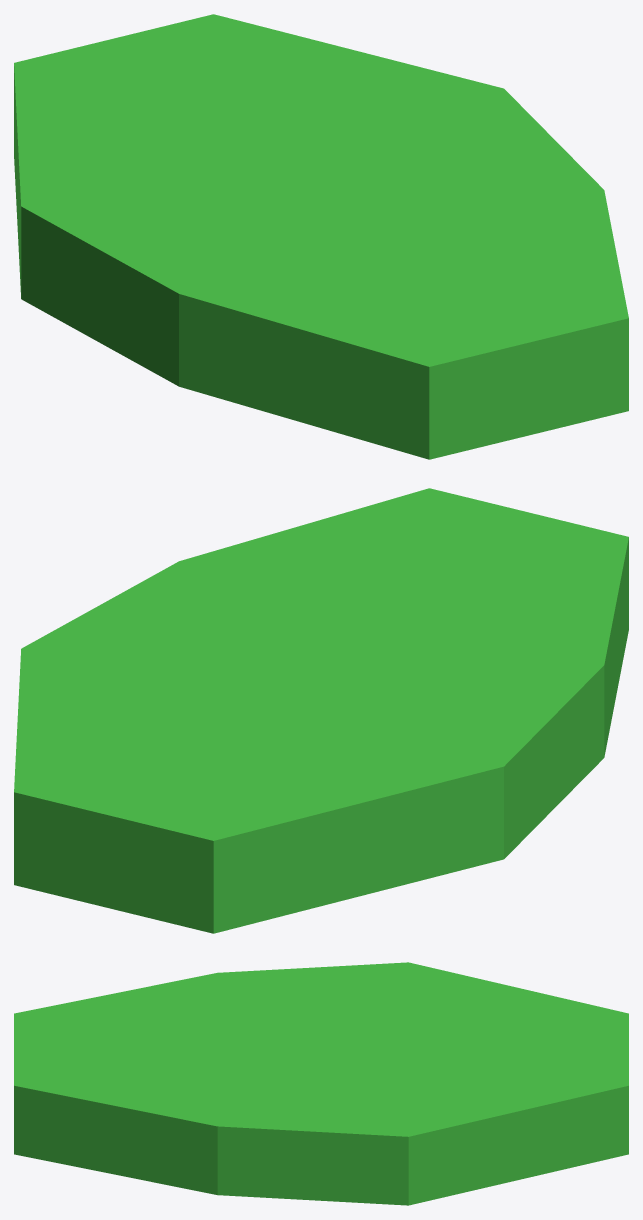
File: leaf.glb
3 renders of one model, top to bottom at view 1: azimuth 30°, elevation 25°; view 2: azimuth 150°, elevation 25°; view 3: azimuth 270°, elevation 25°, orthographic. The views are drawn at different scales.
Visible parts, largest first — view 1: leaf; view 2: leaf; view 3: leaf.
Boxes of the visible parts, <box> form: leaf: <box>14,14,628,459</box>; leaf: <box>14,488,628,933</box>; leaf: <box>14,962,628,1205</box>.
Bounding box in the file's own units: 0.0564 × 0.0104 × 0.084.
